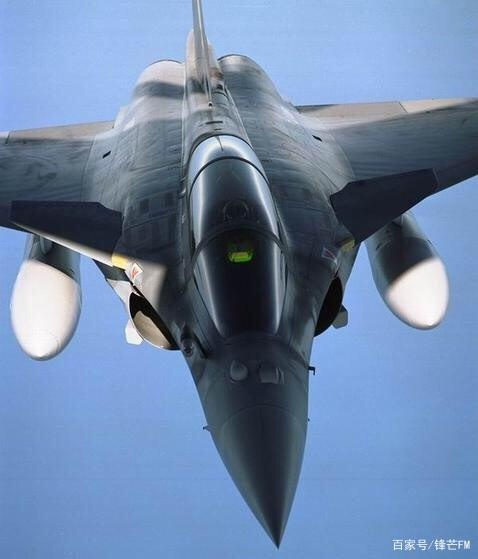airplane: (4, 1, 478, 547)
